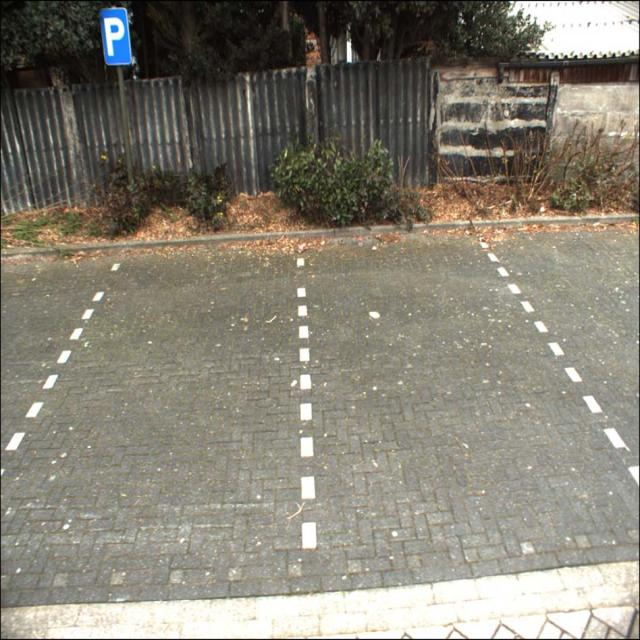park: (99, 7, 131, 66)
